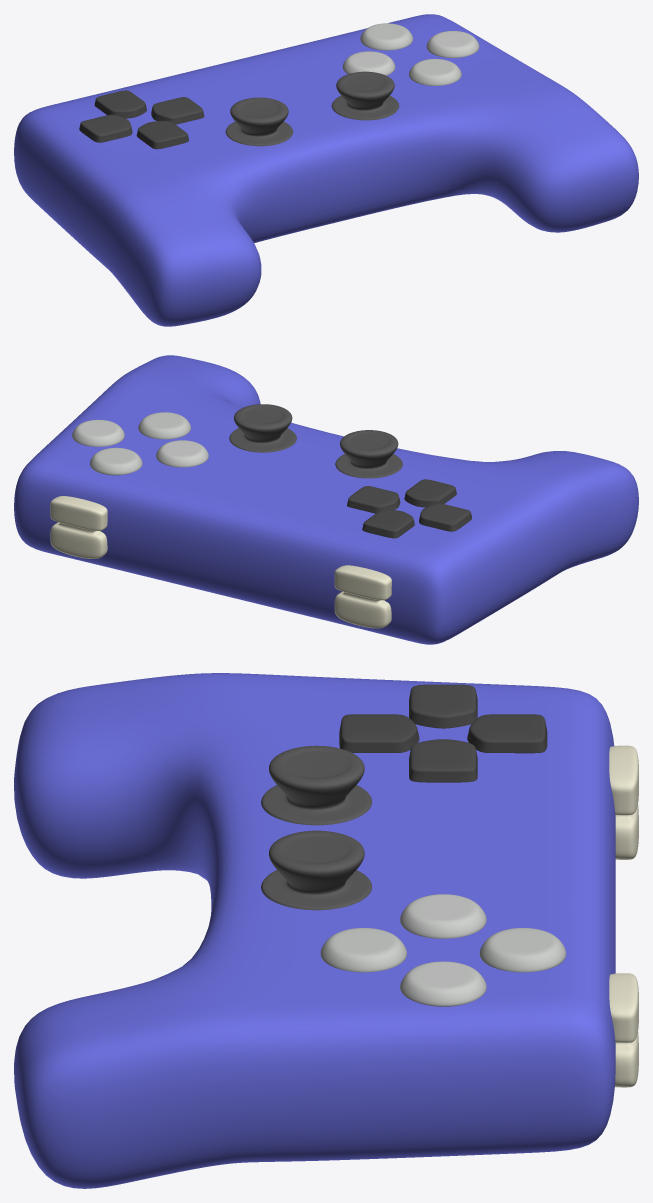
The model's file is controller.glb.
3 views of the same model, one above another, from view 1: azimuth 30°, elevation 25°; view 2: azimuth 150°, elevation 25°; view 3: azimuth 270°, elevation 25° (orthographic). The views are drawn at different scales.
Visible parts, largest first — view 1: Cube.004, Cylinder.002, Cylinder.001, Cube.002, Cube.001, Cylinder; view 2: Cube.004, Cube.003, Cylinder.002, Cylinder.001, Cylinder, Cube.001, Cube.002; view 3: Cube.004, Cylinder.002, Cylinder, Cylinder.001, Cube.003, Cube.001, Cube.002.
Part boxes in pixels (x1,y1,x2,y2): Cube.004: [14, 14, 638, 326]; Cylinder.002: [225, 71, 399, 146]; Cylinder.001: [360, 23, 461, 85]; Cube.002: [79, 97, 204, 142]; Cube.001: [94, 90, 188, 149]; Cylinder: [342, 31, 479, 75]; Cube.004: [14, 355, 638, 644]; Cube.003: [50, 496, 391, 628]; Cylinder.002: [229, 404, 402, 478]; Cylinder.001: [90, 412, 190, 475]; Cylinder: [72, 419, 208, 467]; Cube.001: [362, 479, 456, 538]; Cube.002: [347, 486, 471, 531]; Cube.004: [14, 673, 615, 1188]; Cylinder.002: [261, 745, 371, 910]; Cylinder: [400, 894, 486, 1006]; Cylinder.001: [320, 928, 566, 972]; Cube.003: [609, 745, 638, 1087]; Cube.001: [339, 714, 547, 753]; Cube.002: [409, 684, 477, 782].
Bounding box in the file's own units: 4.53 × 1.11 × 3.07.
